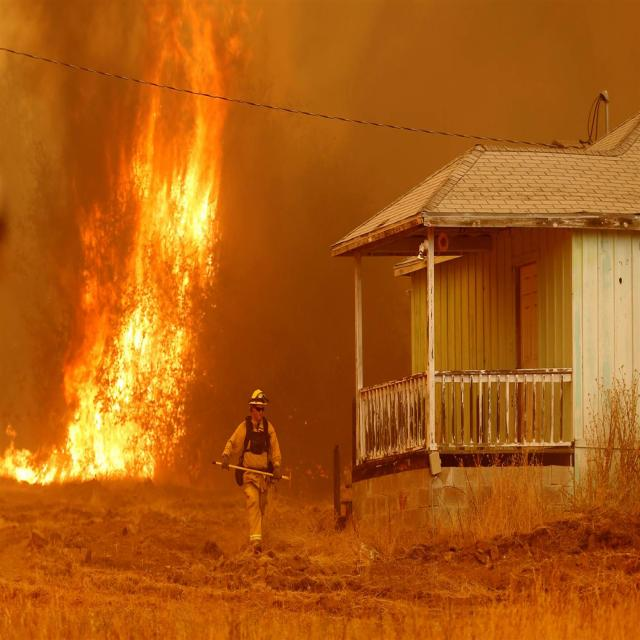Fire: (5, 25, 274, 504)
Smoke: (285, 22, 627, 155), (281, 180, 404, 464), (5, 16, 87, 380)
